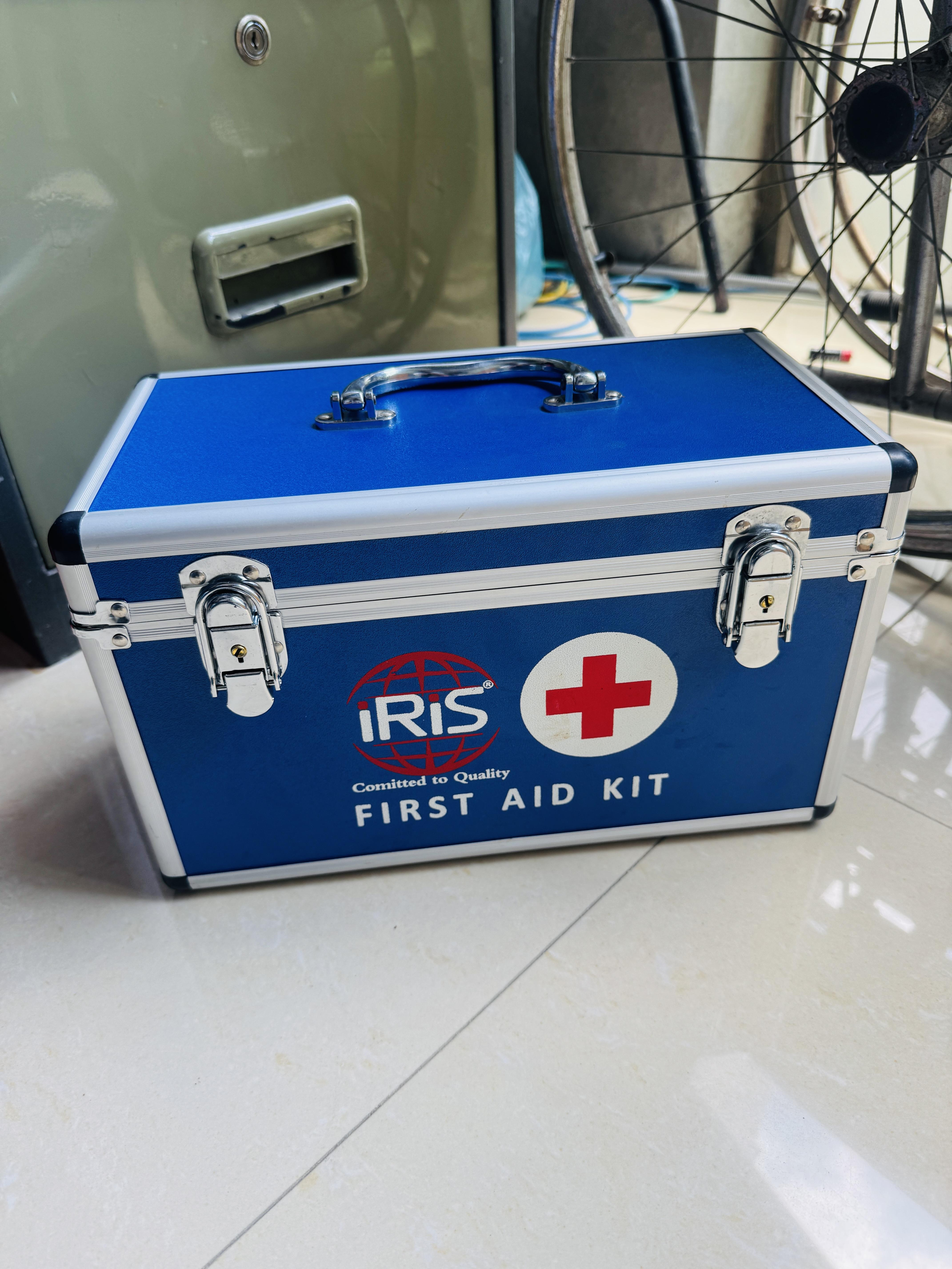FirstAidBox: (24, 331, 921, 920)
